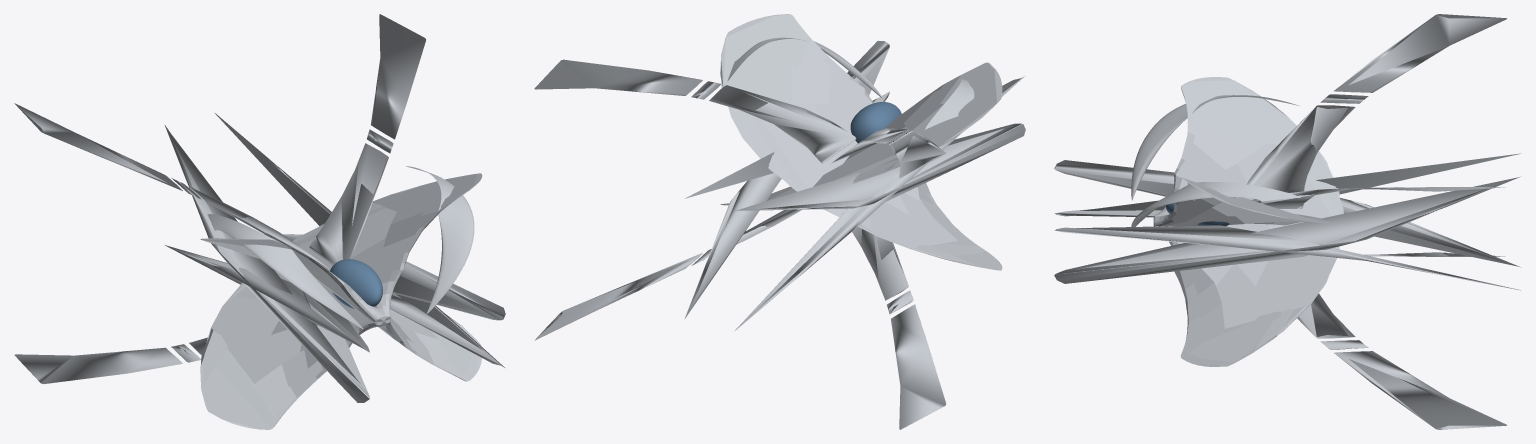
Rendered from ENE011.glb.
3 views of the same model, side by side, from view 1: azimuth 30°, elevation 25°; view 2: azimuth 150°, elevation 25°; view 3: azimuth 270°, elevation 25° (orthographic). The views are drawn at different scales.
Parts seen in each view (by area): view 1: assembly_fuselage, assembly_tail_r, assembly_wing_r, assembly_subwing_r, assembly_canopy; view 2: assembly_fuselage, assembly_tail_r, assembly_wing_r, assembly_subwing_r, assembly_canopy; view 3: assembly_fuselage, assembly_wing_r, assembly_tail_r, assembly_subwing_r.
Boxes of the visible parts, <box> form: assembly_fuselage: <box>200,173,482,429</box>; assembly_tail_r: <box>14,14,425,384</box>; assembly_wing_r: <box>164,113,505,402</box>; assembly_subwing_r: <box>207,166,474,329</box>; assembly_canopy: <box>330,259,382,308</box>; assembly_fuselage: <box>720,14,1002,270</box>; assembly_tail_r: <box>534,59,946,429</box>; assembly_wing_r: <box>684,40,1025,330</box>; assembly_subwing_r: <box>727,37,974,129</box>; assembly_canopy: <box>850,102,901,142</box>; assembly_fuselage: <box>1153,77,1343,366</box>; assembly_wing_r: <box>1054,153,1520,290</box>; assembly_tail_r: <box>1244,14,1506,429</box>; assembly_subwing_r: <box>1131,95,1300,226</box>.
Bounding box in the file's own units: 9.93 × 6.22 × 11.05.
